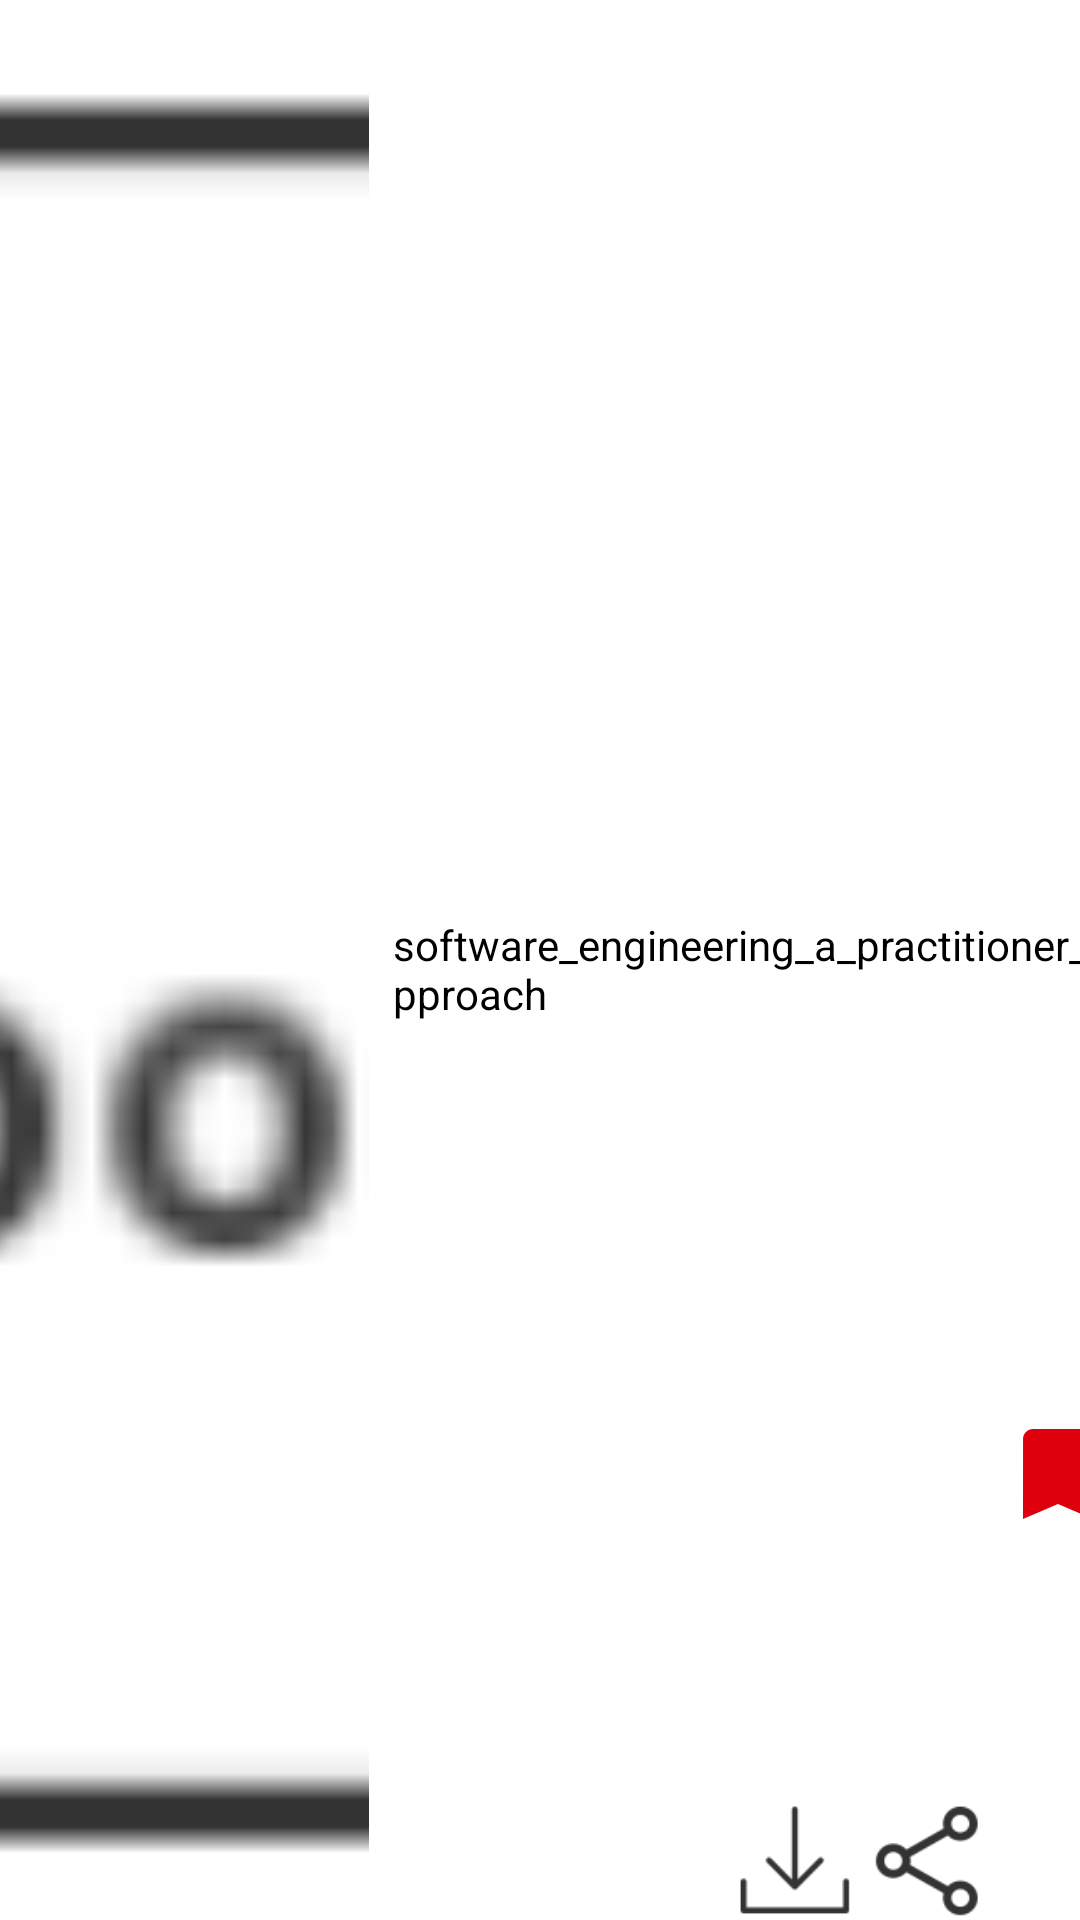

Icon click points for this 1080px×1920px phone screenshot, format point (x, y):
download: point (795, 1860)
share: point (926, 1861)
